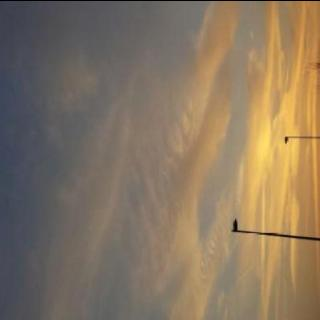Contrails: (23, 0, 306, 320)
